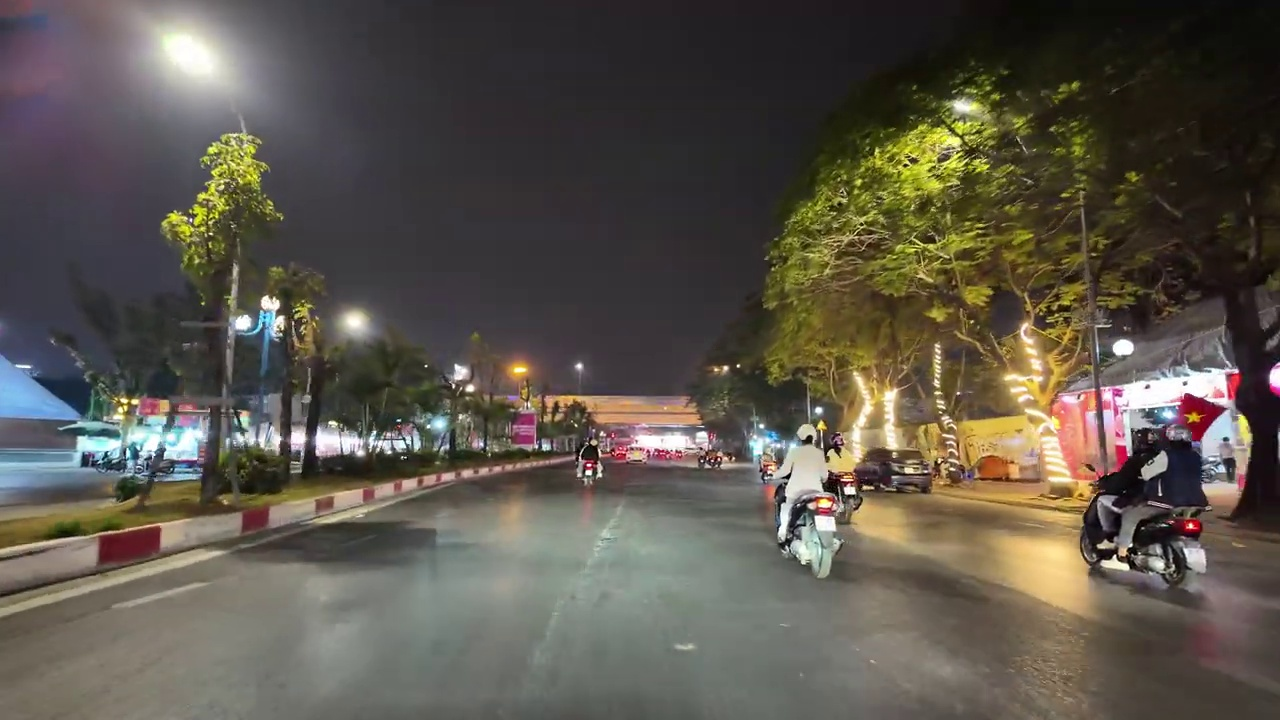acesa: (158, 27, 221, 85), (338, 307, 370, 337), (506, 359, 531, 382)
